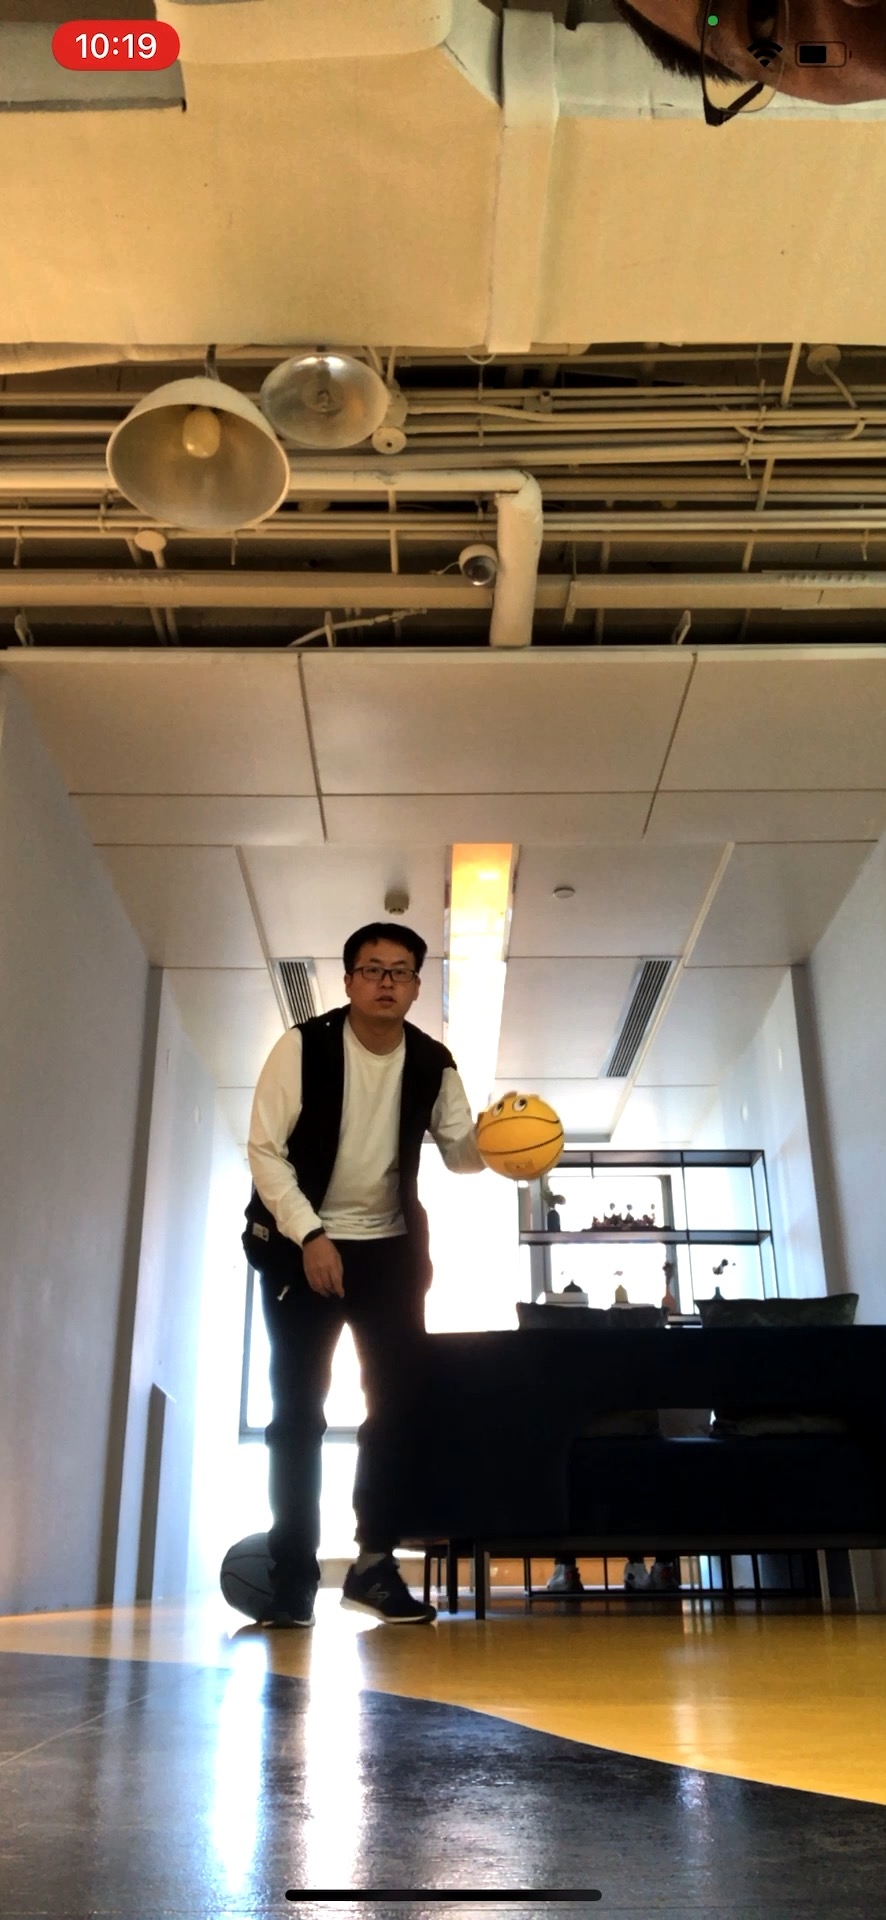ball: (476, 1090, 567, 1182), (223, 1527, 280, 1625)
